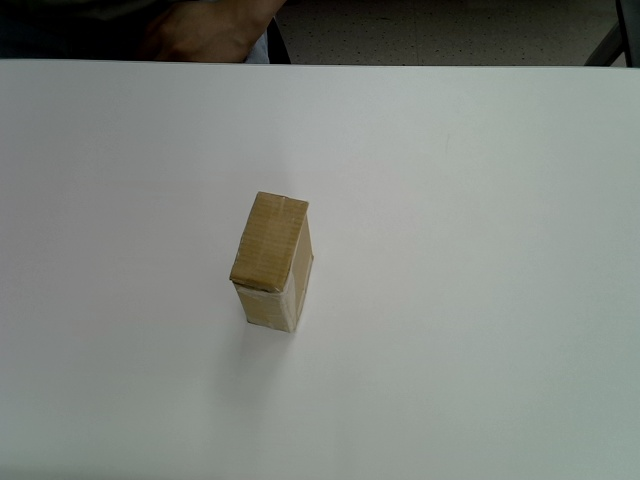normal: (228, 190, 316, 334)
